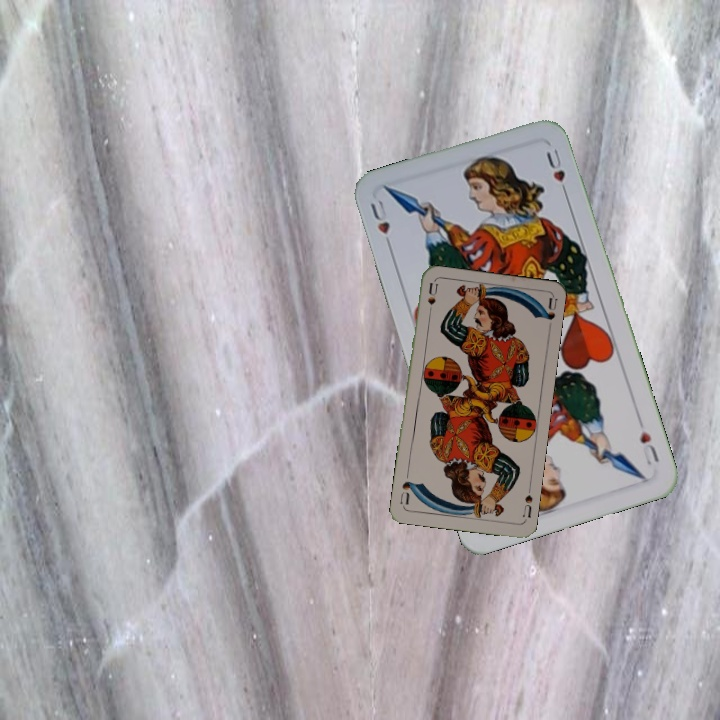HU: (366, 195, 396, 253), (636, 427, 662, 468)
SU: (424, 280, 440, 320), (519, 491, 535, 520)
